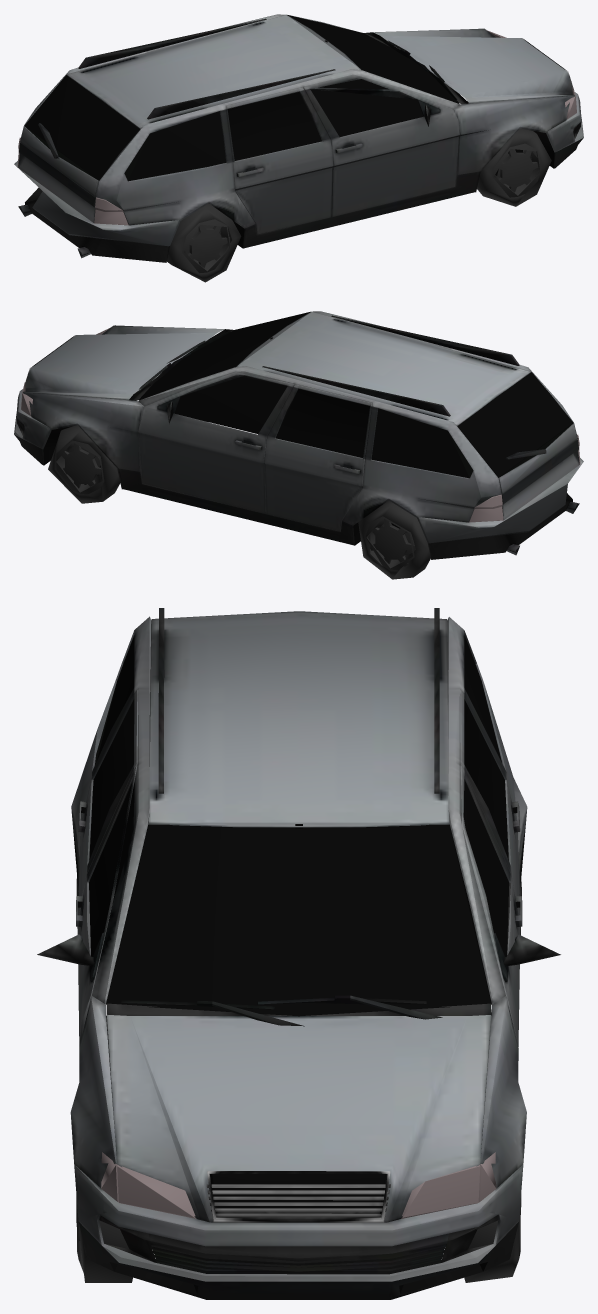
The model's file is pc-wagon-silver.lod1.glb.
3 views of the same model, one above another, from view 1: azimuth 30°, elevation 25°; view 2: azimuth 150°, elevation 25°; view 3: azimuth 270°, elevation 25° (orthographic). The views are drawn at different scales.
Visible parts, largest first — view 1: Wagon Body_Body_0, Wagon Body_Glass_0; view 2: Wagon Body_Body_0, Wagon Body_Glass_0; view 3: Wagon Body_Body_0, Wagon Body_Glass_0.
Boxes of the visible parts, bbox=[...] form: Wagon Body_Body_0: bbox=[14, 14, 583, 262]; Wagon Body_Glass_0: bbox=[17, 15, 576, 282]; Wagon Body_Body_0: bbox=[14, 311, 583, 559]; Wagon Body_Glass_0: bbox=[21, 311, 580, 579]; Wagon Body_Body_0: bbox=[37, 608, 560, 1299]; Wagon Body_Glass_0: bbox=[76, 635, 521, 1282].
Bounding box in the file's own units: 4.36 × 1.36 × 1.93.
2 materials, 1 textured.
